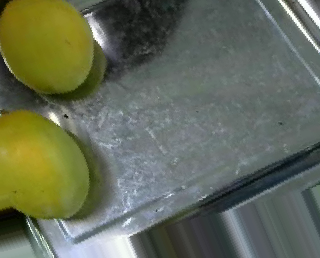Mango: (0, 109, 90, 218), (0, 0, 97, 92)
